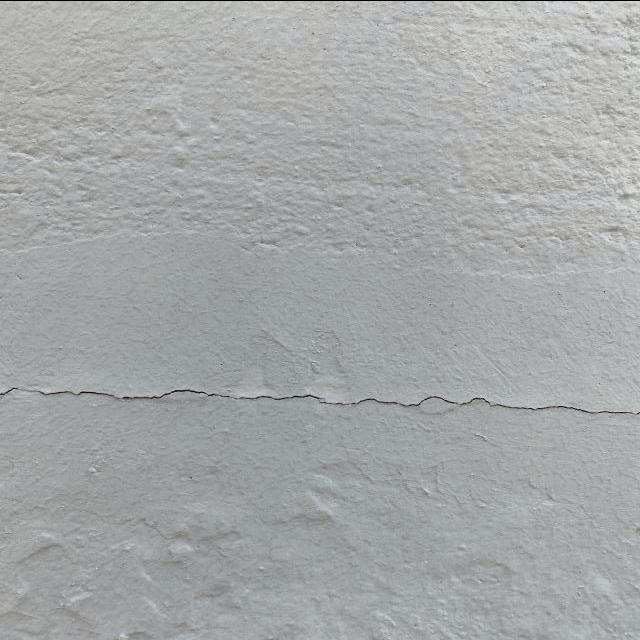SurfaceCrack: (1, 342, 640, 463)
